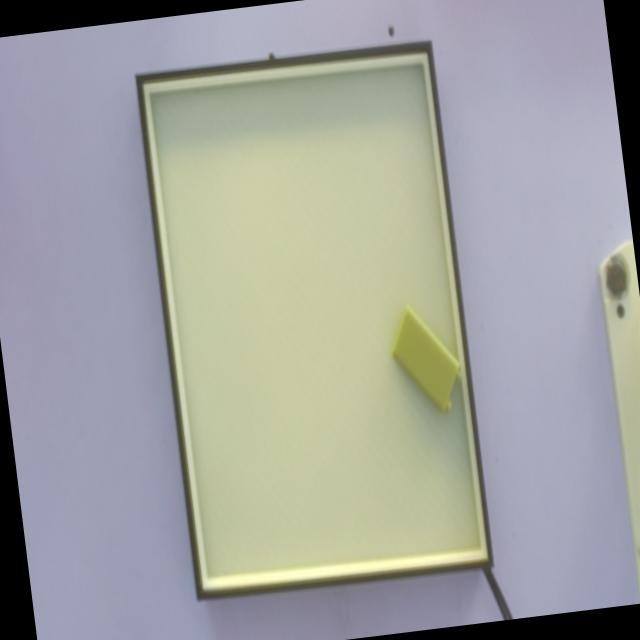bateria: (391, 302, 463, 418)
mesa: (134, 40, 494, 601)
